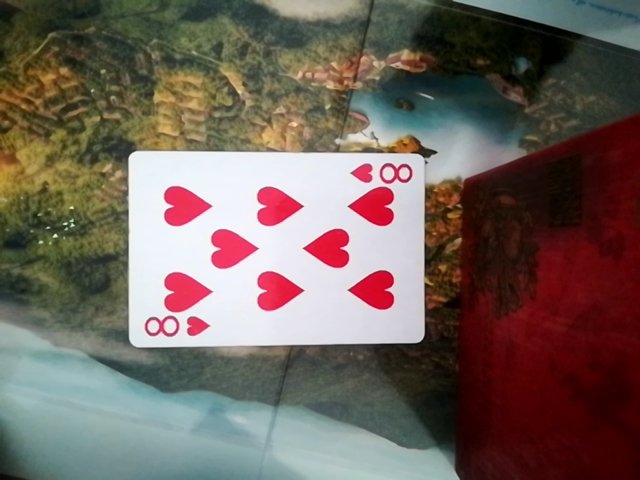hx 8: (116, 153, 430, 354)
